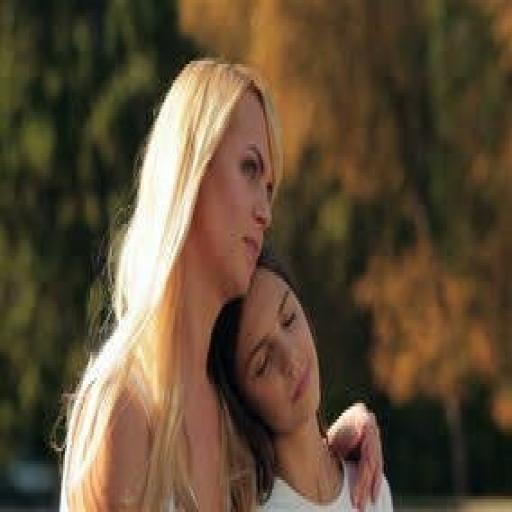sitting: (56, 51, 395, 509), (211, 253, 395, 509)
